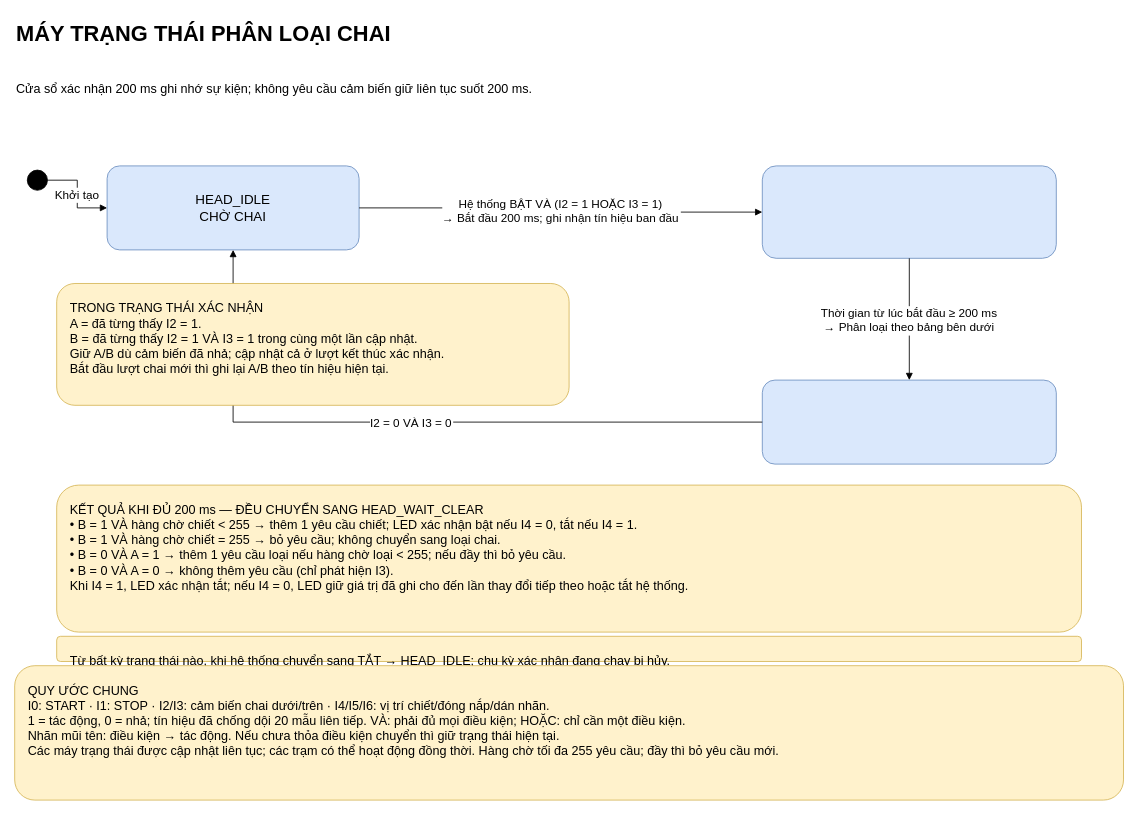
The diagram is 1138 pixels wide and 815 high, and some of its shapes have lost their labels. The box of each missing label's shape, as (x1, y1, x2, y2) in pixels:
HEAD_CONFIRM ĐANG XÁC NHẬN Ghi nhớ I2 và I2/I3 cùng tác động: (761, 165, 1056, 258)
HEAD_WAIT_CLEAR CHỜ VÙNG KIỂM TRA TRỐNG: (761, 379, 1056, 464)
